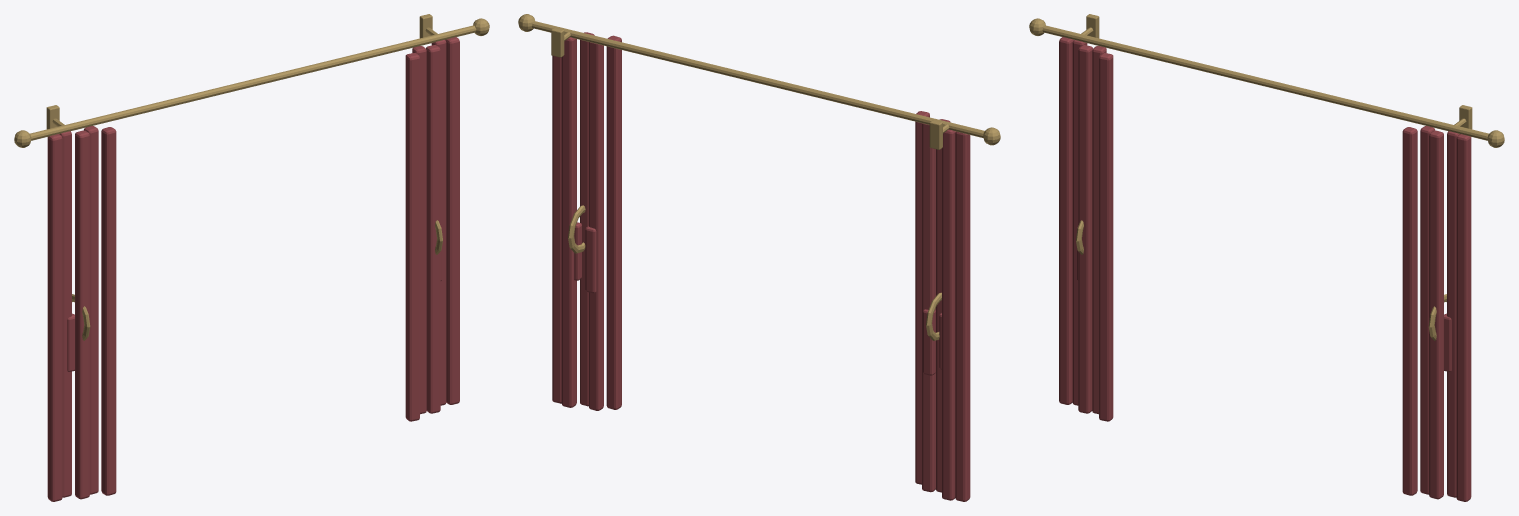
3 renders of one model, left to right at view 1: azimuth 30°, elevation 25°; view 2: azimuth 150°, elevation 25°; view 3: azimuth 330°, elevation 25°, orthographic.
Parts seen in each view (by area): view 1: curtainRod; view 2: curtainRod; view 3: curtainRod.
Boxes of the visible parts, x1=… form: curtainRod: x1=14, y1=14, x2=489, y2=501; curtainRod: x1=518, y1=14, x2=1000, y2=501; curtainRod: x1=1029, y1=14, x2=1504, y2=501.
Bounding box in the file's own units: 2.33 × 1.79 × 0.238.
